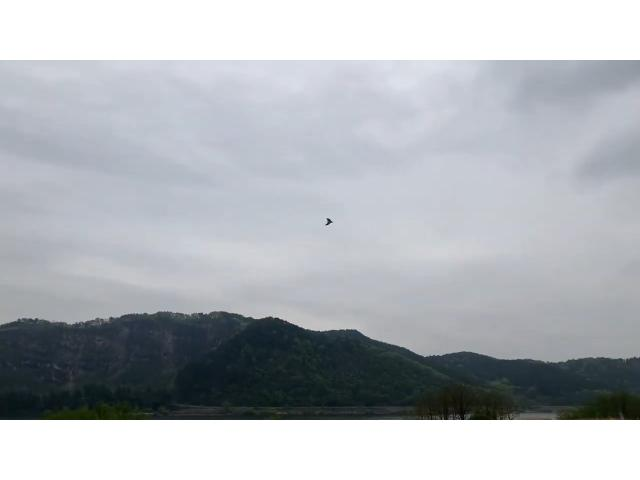Anti-Drone: (308, 208, 342, 234)
